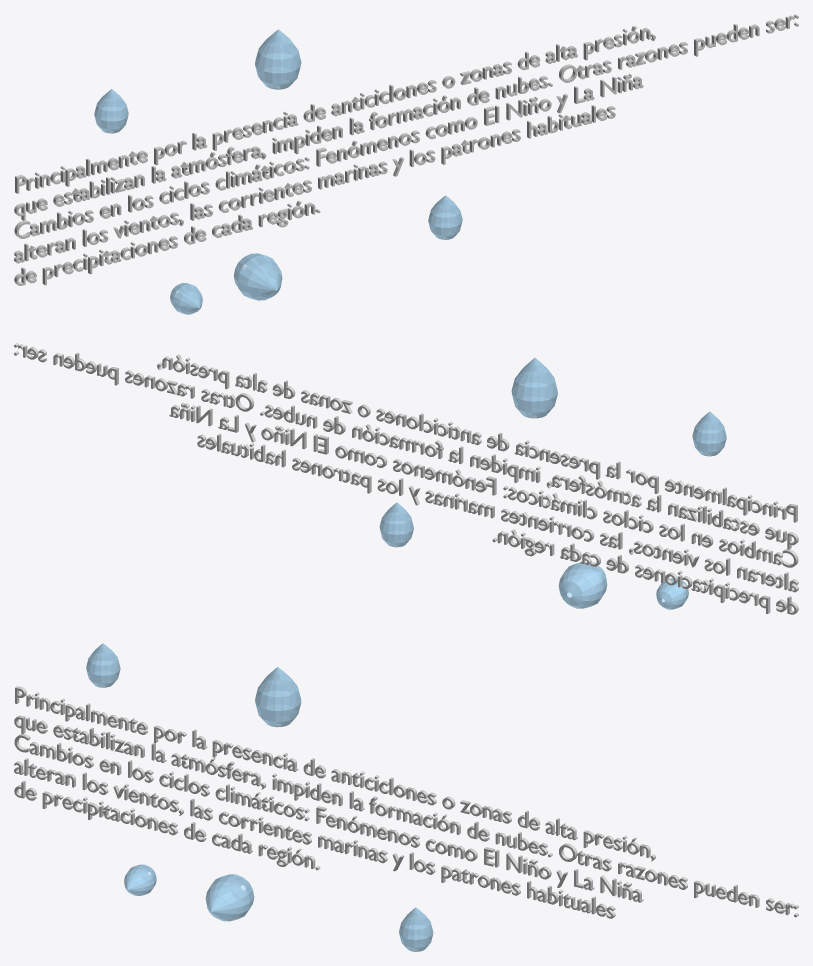
File: prefab2Gotas.fbx
The picture shows the model from 3 angles, top to bottom: view 1: azimuth 30°, elevation 25°; view 2: azimuth 150°, elevation 25°; view 3: azimuth 330°, elevation 25°; orthographic projection.
Visible parts, largest first — view 1: Texto, Gota_Pequena_01.001, Gota_Pequena_01, Gota_Pequena_01.003, Gota_Pequena_01.002, Gota_Pequena_02; view 2: Texto, Gota_Pequena_01.001, Gota_Pequena_01, Gota_Pequena_01.003, Gota_Pequena_01.002, Gota_Pequena_02; view 3: Texto, Gota_Pequena_01.001, Gota_Pequena_01, Gota_Pequena_01.002, Gota_Pequena_01.003, Gota_Pequena_02.
Boxes of the visible parts, left/top/right/bottom form: Texto: left=14, top=14, right=798, bottom=285; Gota_Pequena_01.001: left=255, top=29, right=301, bottom=89; Gota_Pequena_01: left=233, top=253, right=282, bottom=300; Gota_Pequena_01.003: left=94, top=89, right=128, bottom=133; Gota_Pequena_01.002: left=428, top=195, right=462, bottom=239; Gota_Pequena_02: left=170, top=283, right=202, bottom=314; Texto: left=14, top=343, right=798, bottom=614; Gota_Pequena_01.001: left=511, top=358, right=557, bottom=418; Gota_Pequena_01: left=558, top=562, right=607, bottom=608; Gota_Pequena_01.003: left=692, top=411, right=726, bottom=456; Gota_Pequena_01.002: left=379, top=502, right=413, bottom=547; Gota_Pequena_02: left=656, top=578, right=688, bottom=609; Texto: left=14, top=686, right=798, bottom=918; Gota_Pequena_01.001: left=255, top=667, right=301, bottom=727; Gota_Pequena_01: left=205, top=874, right=254, bottom=921; Gota_Pequena_01.002: left=399, top=907, right=433, bottom=951; Gota_Pequena_01.003: left=86, top=643, right=120, bottom=687; Gota_Pequena_02: left=124, top=864, right=156, bottom=895.
Bounding box in the file's own units: 866 × 265 × 91.75.
